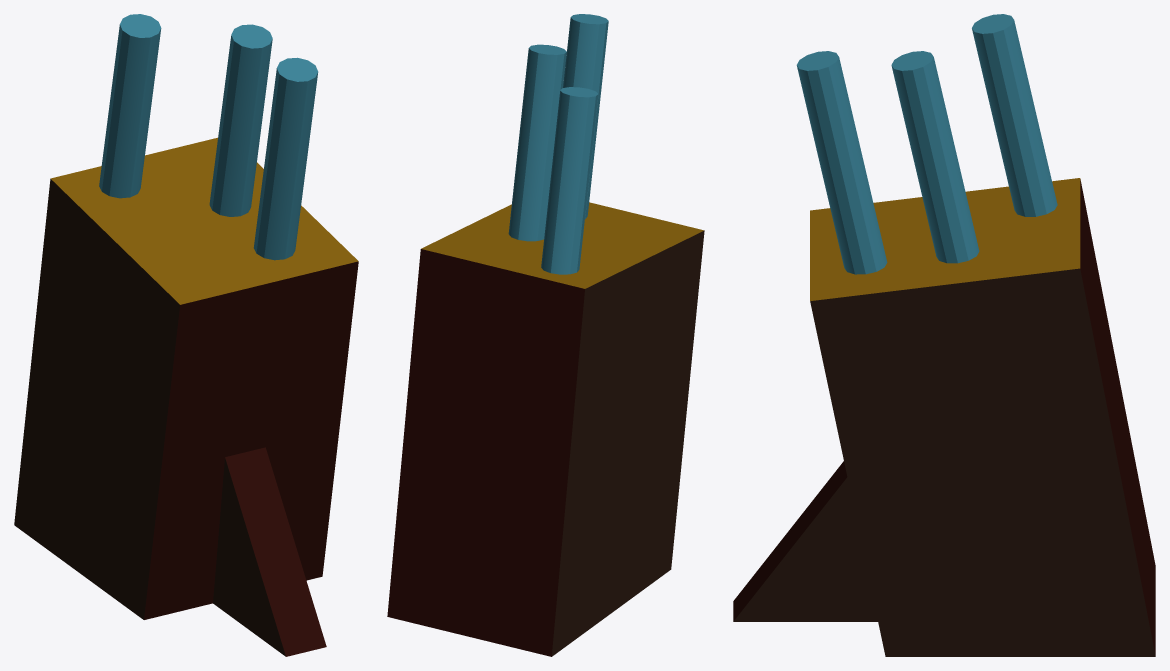
Rendered from SM_Knifeturret.fbx.
3 renders of one model, left to right at view 1: azimuth 30°, elevation 25°; view 2: azimuth 150°, elevation 25°; view 3: azimuth 270°, elevation 25°, orthographic. The views are drawn at different scales.
Parts seen in each view (by area): view 1: Knifeturret; view 2: Knifeturret; view 3: Knifeturret.
Boxes of the visible parts, x1,y1,x2,y2 form: Knifeturret: (14, 14, 358, 656); Knifeturret: (387, 14, 704, 656); Knifeturret: (733, 14, 1155, 656).
Bounding box in the file's own units: 28.87 × 84.73 × 56.83.
